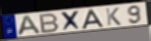9: (127, 4, 143, 24)
A: (16, 15, 43, 37), (80, 8, 106, 30)
B: (39, 12, 61, 35)
K: (105, 6, 122, 26)
X: (60, 10, 82, 32)
